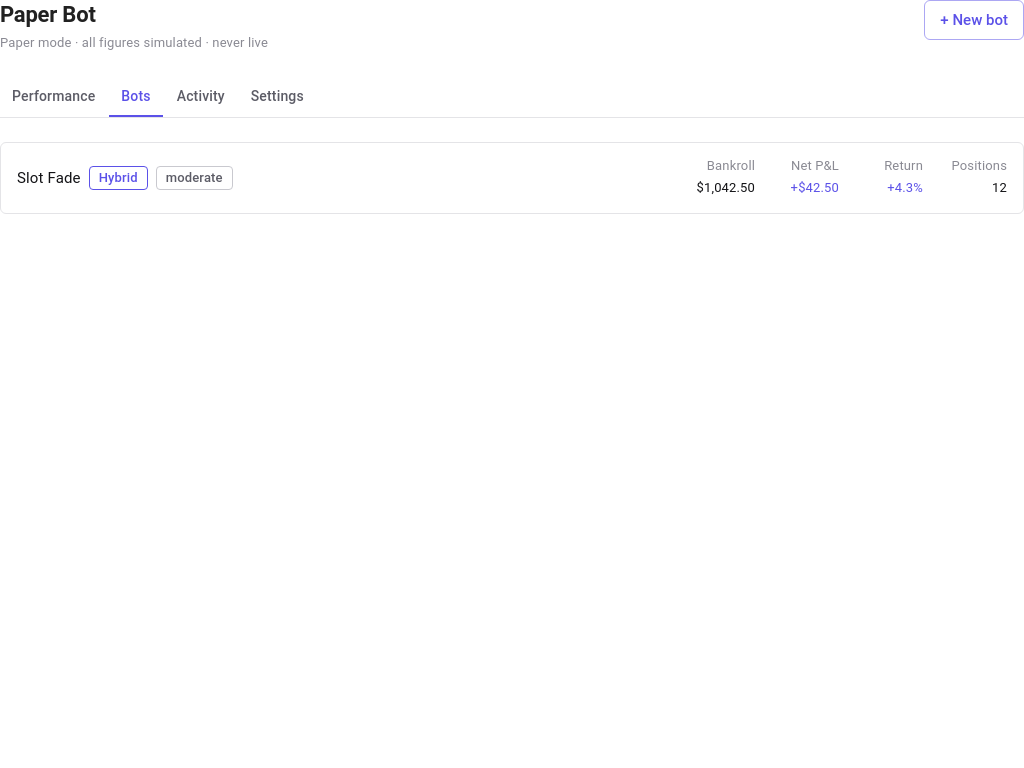
Test: Paper Bot list › opens the create dialog from the New bot affordance
The width and height of the screenshot is (1024, 768).
Click the button "+ New bot": (974, 20) x1=924 y1=0 x2=1023 y2=40
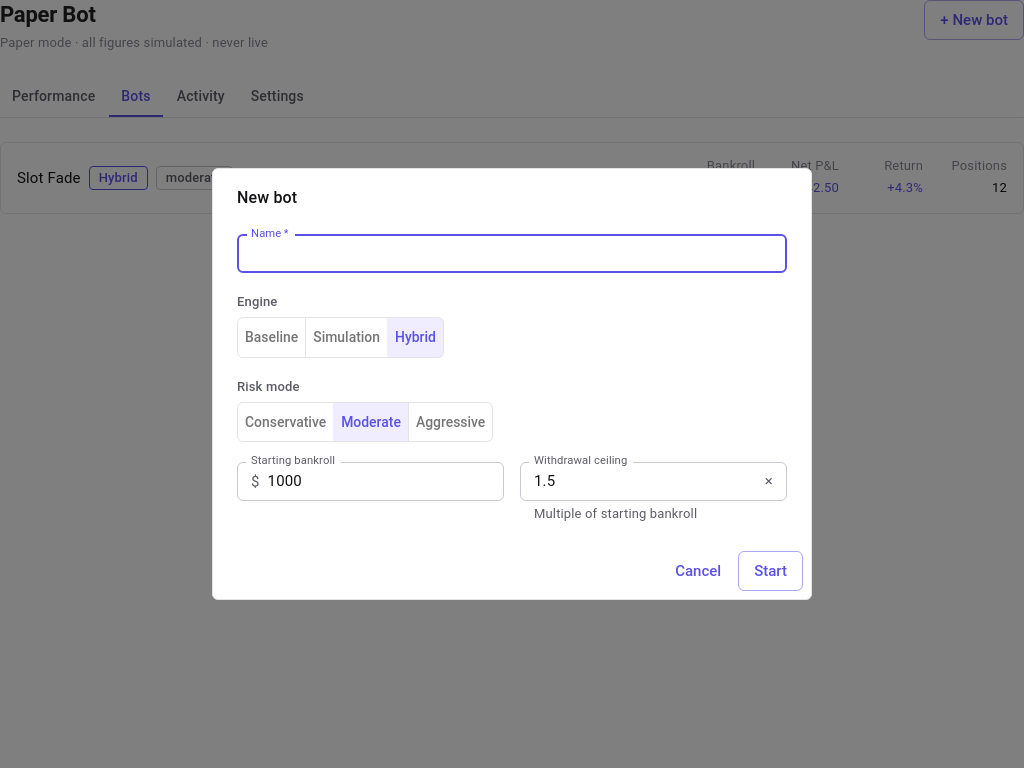
Now the dialog is shown, box x1=212 y1=168 x2=812 y2=600
Now the field labelled "Name *" is shown, box x1=237 y1=235 x2=787 y2=274
